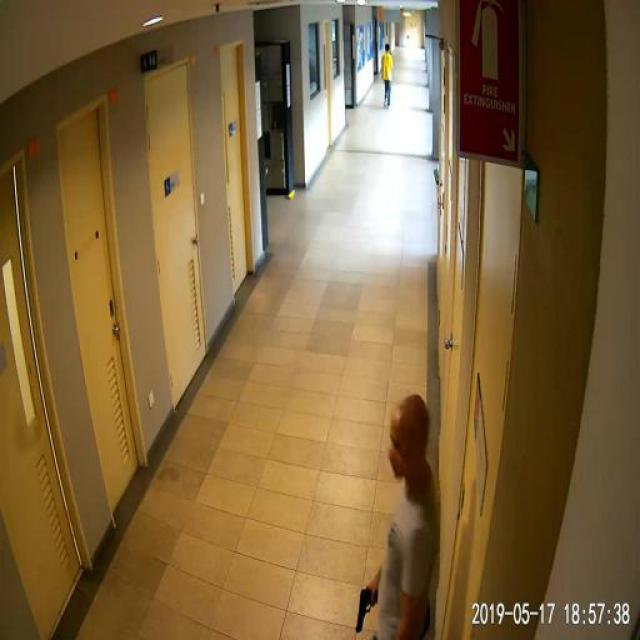weapon: (354, 588, 378, 634)
